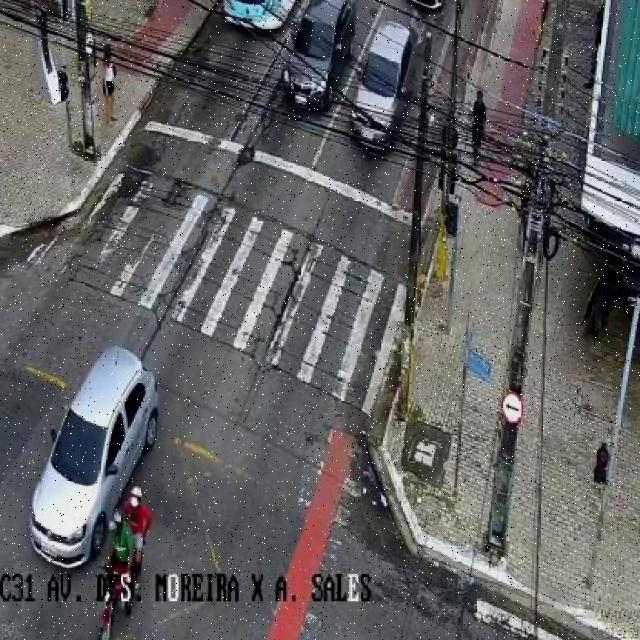Car: (26, 344, 161, 572), (350, 19, 418, 155), (278, 0, 357, 116)
Cycle: (91, 561, 143, 639)
